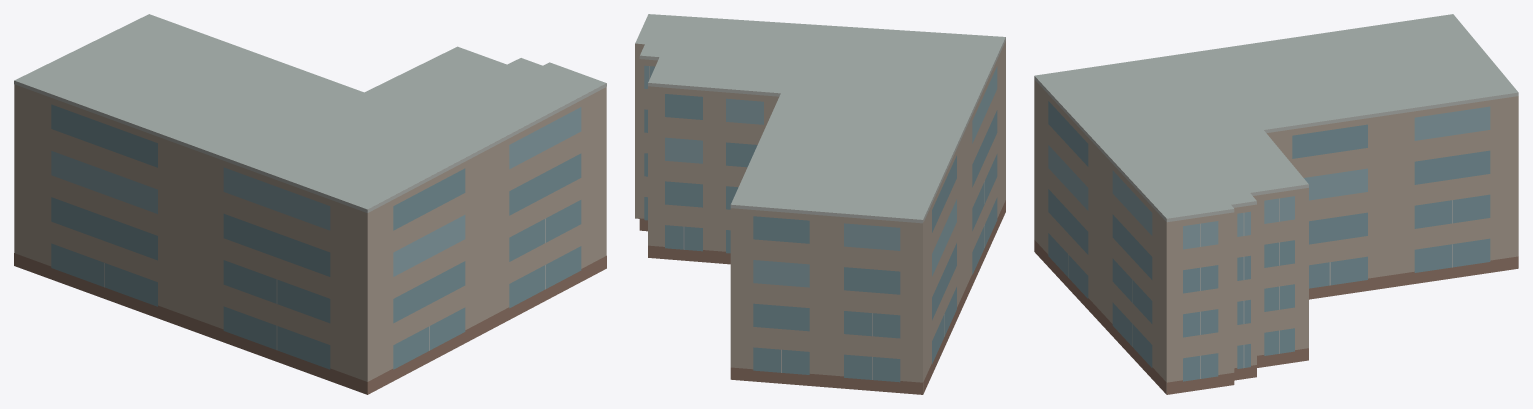
Rendered from survey-upis-32985383.glb.
3 renders of one model, left to right at view 1: azimuth 30°, elevation 25°; view 2: azimuth 150°, elevation 25°; view 3: azimuth 270°, elevation 25°, orthographic. The views are drawn at different scales.
Parts seen in each view (by area): view 1: survey-upis-32985383.tmp; view 2: survey-upis-32985383.tmp; view 3: survey-upis-32985383.tmp.
Part boxes in pixels (x1,y1,x2,y2): survey-upis-32985383.tmp: (14,14,606,394); survey-upis-32985383.tmp: (635,14,1005,394); survey-upis-32985383.tmp: (1034,14,1518,394).
Size of the model in its own units: 30.68 by 12.3 by 30.67.
